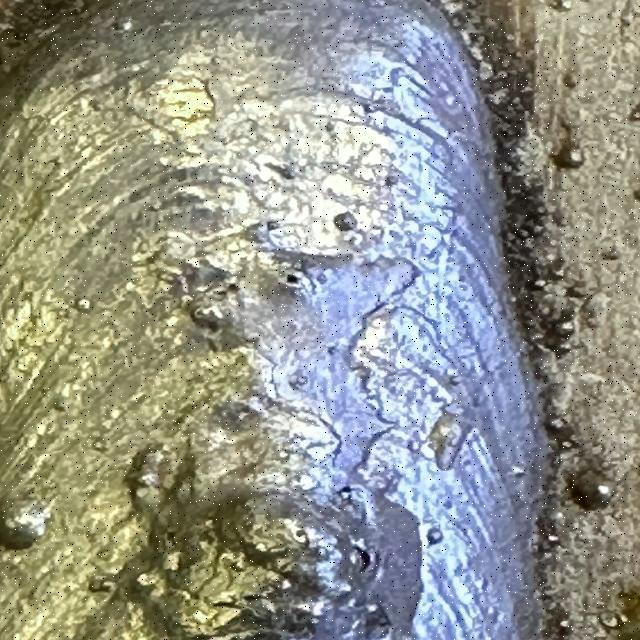Excess Reinforcement: (482, 68, 558, 196), (510, 258, 592, 358)
Spatters: (430, 410, 470, 470), (0, 500, 48, 549), (568, 470, 613, 509), (598, 612, 633, 637), (552, 148, 585, 168), (333, 211, 358, 231), (288, 370, 308, 389), (360, 100, 382, 114), (562, 71, 580, 88), (113, 18, 133, 32), (427, 528, 443, 545), (548, 0, 572, 11), (560, 620, 572, 640), (628, 102, 640, 121), (75, 298, 92, 311), (385, 175, 398, 186), (449, 375, 462, 386)
